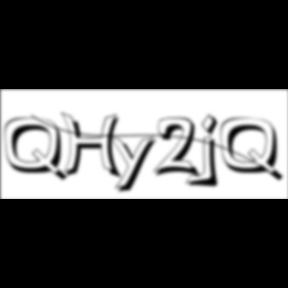2: (154, 117, 204, 181)
H: (61, 112, 127, 182)
Q: (5, 117, 71, 184), (221, 117, 287, 184)
j: (198, 113, 226, 191)
y: (108, 132, 162, 196)
